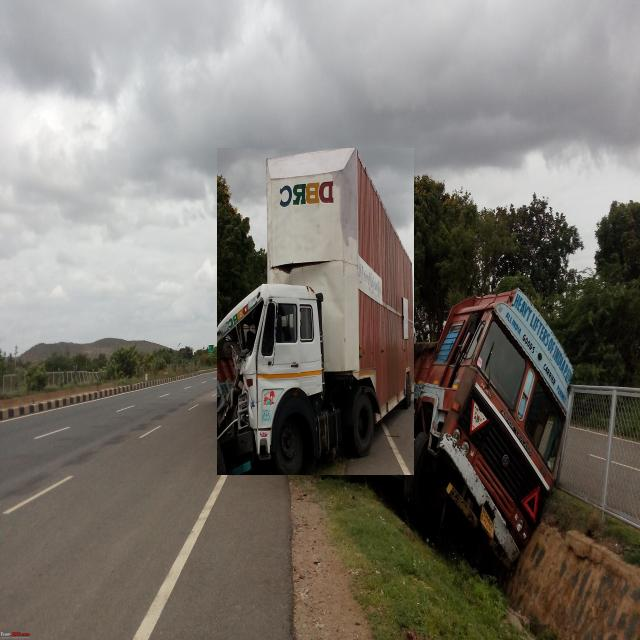accident: (218, 149, 414, 475), (379, 287, 572, 569)
